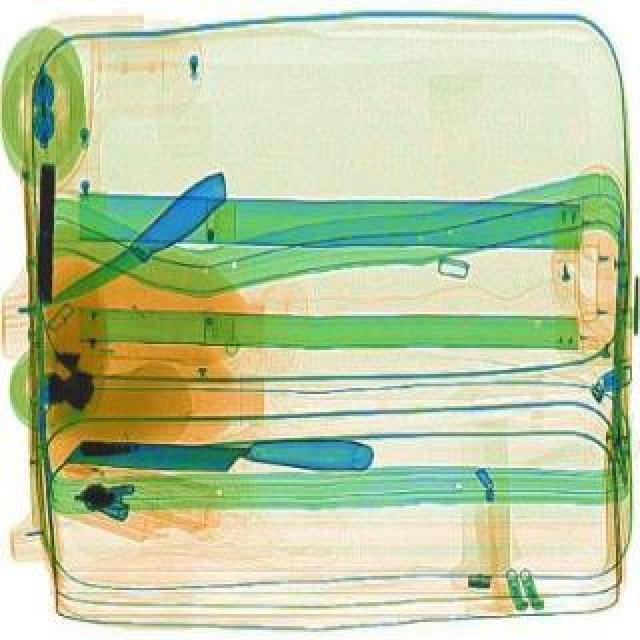gun: (72, 474, 144, 528), (32, 156, 56, 296)
knife: (30, 166, 242, 314), (66, 424, 374, 472)
